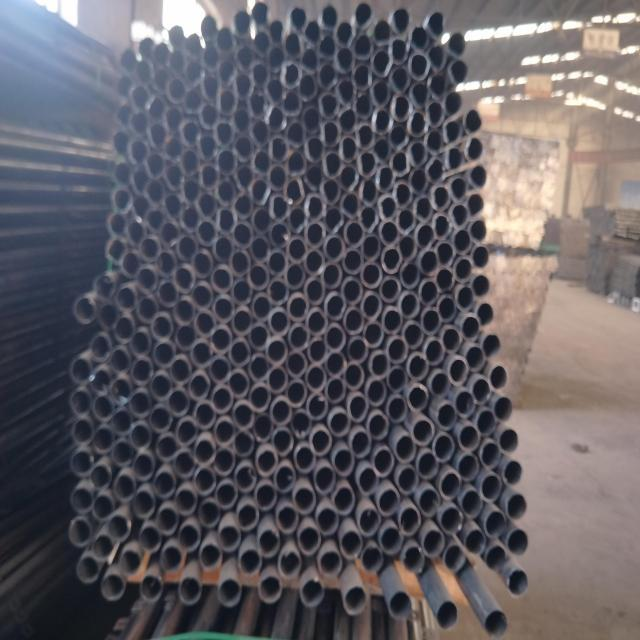pipe: (178, 573, 202, 606), (276, 548, 302, 578), (100, 570, 125, 600), (108, 512, 130, 546), (160, 541, 182, 575), (156, 505, 180, 536), (298, 524, 321, 556), (259, 573, 281, 606), (68, 446, 92, 476), (68, 517, 92, 547), (76, 554, 100, 584), (275, 504, 299, 534), (300, 577, 324, 607), (319, 548, 343, 578), (422, 528, 446, 558), (432, 432, 455, 463), (72, 414, 94, 446), (390, 590, 412, 622), (398, 505, 420, 537), (506, 569, 530, 598), (131, 355, 152, 388), (199, 542, 222, 572), (218, 578, 241, 608), (235, 502, 258, 532), (273, 464, 296, 494), (478, 440, 501, 470), (198, 498, 220, 529), (412, 416, 434, 447), (418, 487, 440, 518), (436, 599, 458, 630), (460, 488, 482, 519), (176, 415, 197, 447), (208, 327, 232, 355), (210, 386, 234, 414), (292, 486, 316, 514), (458, 424, 482, 452), (73, 295, 96, 324), (402, 545, 425, 574), (70, 388, 92, 418), (70, 484, 92, 514), (114, 472, 136, 502), (130, 328, 152, 358), (132, 452, 154, 482), (132, 488, 154, 518), (214, 24, 236, 54), (150, 372, 172, 402), (216, 480, 238, 510), (218, 524, 240, 554), (258, 528, 280, 558), (256, 446, 278, 476), (270, 395, 292, 425), (332, 484, 354, 514), (344, 584, 366, 614), (372, 446, 394, 476), (378, 486, 400, 516), (380, 526, 402, 556), (440, 506, 462, 536), (448, 356, 470, 386), (484, 509, 506, 539), (89, 333, 110, 364), (108, 377, 131, 405), (139, 574, 162, 602), (156, 281, 179, 309), (173, 486, 196, 514), (213, 447, 236, 475), (328, 409, 351, 437), (315, 506, 338, 534), (358, 508, 381, 536), (442, 544, 465, 572), (484, 610, 507, 638), (485, 544, 508, 572), (92, 492, 114, 521), (239, 547, 261, 576), (480, 473, 502, 502), (456, 453, 478, 482), (506, 527, 528, 556), (111, 407, 132, 437), (129, 388, 150, 418), (249, 384, 270, 414), (362, 544, 383, 574), (193, 401, 216, 428), (409, 82, 432, 109), (110, 130, 132, 158), (94, 272, 116, 300), (70, 356, 92, 384), (92, 394, 114, 422), (130, 423, 152, 451), (150, 406, 172, 434), (196, 164, 218, 192), (188, 371, 210, 399), (194, 468, 216, 496), (212, 294, 234, 322), (210, 356, 232, 384), (230, 307, 252, 335), (234, 464, 256, 492), (290, 410, 312, 438), (310, 428, 332, 456), (314, 465, 336, 493), (360, 293, 382, 321), (390, 94, 412, 122), (408, 383, 430, 411), (498, 426, 520, 454), (117, 44, 138, 73), (488, 363, 509, 392), (502, 458, 523, 487), (134, 297, 158, 322), (232, 8, 252, 38), (178, 522, 198, 552), (252, 412, 272, 442), (333, 446, 353, 476), (348, 393, 368, 423), (396, 433, 416, 463), (232, 192, 255, 218), (156, 432, 178, 459), (254, 481, 276, 508), (268, 223, 290, 250), (378, 194, 400, 221), (416, 451, 438, 478), (93, 426, 114, 454), (93, 534, 114, 562), (112, 440, 133, 468), (140, 523, 161, 551), (193, 310, 214, 338), (194, 438, 215, 466), (232, 278, 253, 306), (294, 446, 315, 474), (342, 278, 363, 306), (380, 275, 401, 303), (382, 306, 403, 334), (397, 466, 418, 494), (402, 322, 423, 350), (407, 352, 428, 380), (506, 492, 527, 520), (230, 247, 250, 276), (436, 401, 456, 430), (181, 34, 204, 59), (319, 178, 342, 203), (378, 221, 401, 246), (146, 124, 168, 150), (136, 268, 158, 294), (153, 471, 175, 497), (214, 418, 236, 444), (232, 402, 254, 428), (248, 179, 270, 205), (248, 236, 270, 262), (288, 324, 310, 350), (316, 62, 338, 88), (442, 120, 464, 146), (492, 396, 514, 422), (359, 466, 378, 496), (115, 286, 136, 313), (176, 451, 197, 478), (217, 149, 238, 176), (214, 180, 235, 207), (306, 392, 327, 419), (352, 32, 373, 59), (387, 367, 408, 394), (409, 53, 430, 80), (407, 111, 428, 138), (441, 471, 462, 498), (114, 315, 134, 343), (182, 118, 202, 146), (154, 339, 174, 367), (169, 388, 189, 416), (234, 430, 254, 458), (249, 324, 269, 352), (273, 428, 293, 456), (322, 205, 342, 233), (357, 150, 377, 178), (359, 178, 379, 206), (341, 192, 361, 220), (368, 412, 388, 440), (382, 246, 402, 274), (388, 396, 408, 424), (407, 140, 427, 168), (409, 167, 429, 195), (400, 292, 420, 320), (424, 338, 444, 366), (430, 370, 450, 398), (463, 108, 483, 136), (481, 332, 501, 360), (456, 390, 476, 418), (193, 249, 212, 278), (230, 338, 249, 367), (304, 222, 326, 247), (324, 236, 346, 261), (324, 325, 346, 350), (105, 238, 126, 264), (120, 548, 141, 574), (155, 250, 176, 276), (183, 86, 204, 112), (174, 299, 195, 325), (343, 308, 364, 334), (361, 262, 382, 288), (371, 80, 392, 106), (387, 338, 408, 364), (98, 303, 118, 330), (180, 202, 198, 232), (174, 266, 194, 293), (246, 90, 266, 117), (212, 265, 232, 292), (288, 207, 308, 234), (286, 352, 306, 379), (340, 531, 360, 558), (344, 364, 364, 391), (366, 379, 386, 406), (392, 7, 412, 34), (372, 50, 392, 77), (443, 91, 463, 118), (441, 327, 461, 354), (470, 377, 490, 404), (199, 14, 218, 42), (289, 292, 308, 320), (359, 205, 378, 233), (398, 234, 417, 262), (428, 44, 447, 72), (425, 127, 444, 155), (266, 166, 288, 190), (388, 152, 410, 176), (109, 348, 130, 373), (303, 166, 324, 191), (338, 136, 359, 161), (348, 337, 369, 362), (166, 76, 186, 102), (162, 106, 182, 132), (180, 149, 200, 175), (152, 314, 172, 340), (232, 70, 252, 96), (192, 284, 212, 310), (215, 207, 235, 233), (234, 166, 254, 192), (270, 196, 290, 222), (266, 338, 286, 364), (281, 62, 301, 88), (282, 90, 302, 116), (286, 120, 306, 146), (284, 178, 304, 204), (286, 381, 306, 407), (298, 74, 318, 100), (322, 152, 342, 178), (307, 308, 327, 334), (335, 46, 355, 72), (338, 164, 358, 190), (344, 249, 364, 275), (364, 322, 384, 348), (370, 352, 390, 378), (372, 20, 392, 46), (373, 108, 393, 134), (376, 166, 396, 192), (390, 66, 410, 92), (416, 224, 436, 250), (400, 262, 420, 288), (418, 280, 438, 306), (426, 12, 446, 38), (425, 101, 445, 127), (431, 186, 451, 212), (454, 256, 474, 282), (466, 528, 486, 554), (115, 101, 134, 128), (192, 339, 211, 366), (284, 151, 306, 174), (158, 222, 179, 246), (338, 106, 356, 134), (352, 431, 370, 459), (396, 208, 414, 236), (422, 308, 440, 336), (90, 464, 110, 489), (146, 177, 166, 202), (200, 102, 220, 127), (198, 219, 218, 244), (250, 121, 270, 146), (214, 236, 234, 261), (232, 223, 252, 248), (230, 371, 250, 396), (252, 209, 272, 234), (304, 137, 324, 162), (304, 279, 324, 304), (322, 263, 342, 288), (308, 337, 328, 362), (352, 64, 372, 89), (360, 235, 380, 260), (393, 182, 413, 207), (428, 74, 448, 99), (464, 137, 484, 162), (434, 241, 454, 266), (122, 251, 141, 277), (217, 89, 236, 115), (249, 265, 268, 291), (252, 294, 271, 320), (270, 310, 289, 336), (389, 38, 408, 64), (419, 250, 438, 276), (449, 59, 468, 85), (128, 219, 146, 246), (178, 323, 196, 350), (198, 189, 216, 216), (320, 1, 338, 28), (320, 91, 338, 118), (354, 92, 372, 119), (414, 196, 432, 223), (452, 228, 470, 255), (128, 138, 148, 162), (162, 194, 182, 218), (177, 236, 197, 260), (250, 62, 270, 86), (232, 106, 252, 130), (196, 134, 216, 158), (268, 138, 288, 162), (250, 356, 270, 380), (268, 280, 288, 304), (282, 32, 302, 56), (300, 108, 320, 132), (320, 121, 340, 145), (171, 358, 190, 383), (318, 36, 337, 61), (306, 251, 325, 276), (326, 293, 345, 318), (306, 365, 325, 390), (112, 160, 130, 186), (112, 186, 130, 212), (92, 369, 110, 395), (136, 60, 154, 86), (132, 194, 150, 220), (266, 106, 284, 132), (267, 78, 285, 104), (268, 250, 286, 276), (336, 20, 354, 46), (390, 124, 408, 150), (450, 176, 468, 202), (471, 244, 489, 270), (456, 286, 474, 312), (438, 296, 456, 322), (462, 314, 480, 340), (466, 346, 484, 372), (477, 410, 495, 436), (250, 3, 270, 26), (287, 239, 307, 262), (326, 353, 346, 376), (289, 5, 306, 32), (109, 212, 128, 236), (163, 137, 182, 161), (184, 60, 203, 84), (268, 368, 287, 392), (287, 264, 306, 288), (337, 80, 356, 104), (203, 74, 221, 99), (216, 120, 234, 145), (300, 48, 318, 73), (306, 194, 324, 219), (327, 378, 345, 403), (346, 222, 364, 247), (448, 32, 466, 57), (470, 218, 488, 243), (436, 268, 454, 293), (146, 152, 163, 178), (236, 134, 253, 160), (268, 47, 285, 73), (357, 123, 374, 149), (150, 69, 170, 91), (164, 166, 184, 188), (408, 26, 428, 48), (237, 47, 256, 70), (181, 180, 200, 203), (140, 238, 158, 262), (356, 1, 372, 28), (374, 138, 392, 162), (469, 164, 487, 188), (426, 158, 444, 182), (450, 204, 468, 228), (468, 192, 484, 218), (252, 32, 270, 55), (252, 150, 270, 173), (133, 166, 150, 190), (153, 42, 170, 66), (472, 274, 489, 298), (477, 302, 494, 326), (130, 85, 149, 106), (168, 51, 186, 73), (148, 98, 166, 120), (218, 62, 236, 84), (445, 148, 463, 170), (132, 111, 148, 135), (146, 210, 164, 231), (168, 24, 185, 46), (268, 19, 284, 42), (304, 21, 320, 44), (114, 76, 132, 96), (203, 49, 221, 69), (140, 37, 154, 62)
